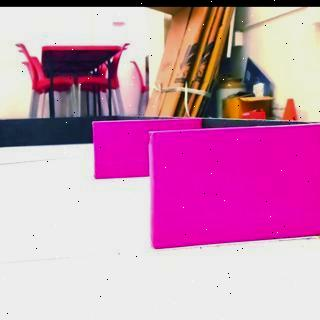xparking: (150, 130, 320, 246), (151, 132, 320, 234), (93, 122, 147, 176)
